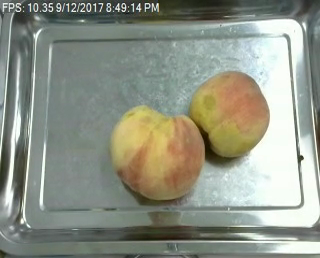Peach: (109, 105, 205, 200), (189, 71, 271, 157)
